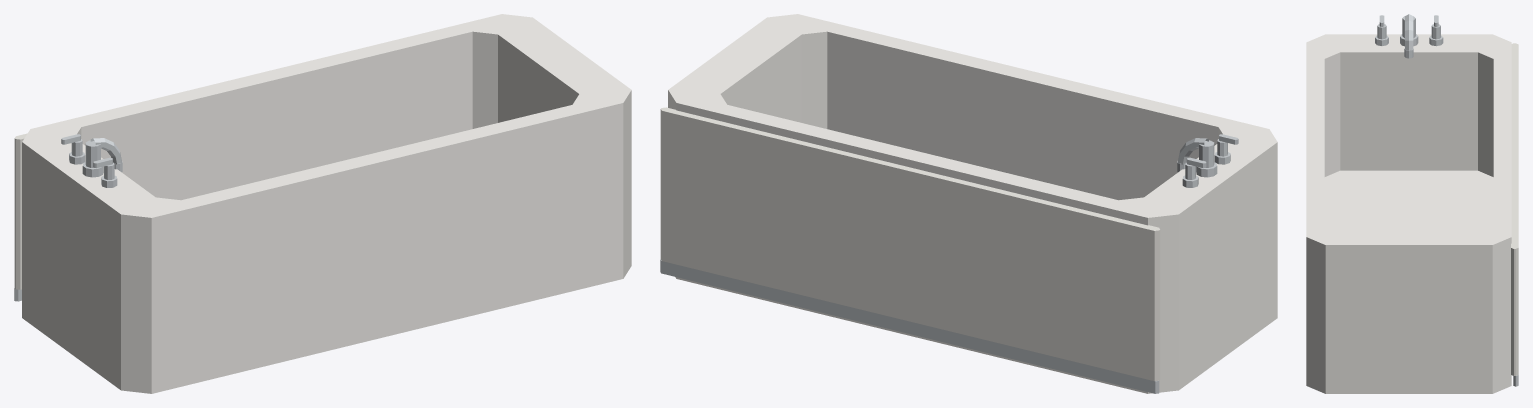
Rendered from SM_LPI_Bath_Tub_01.fbx.
3 renders of one model, left to right at view 1: azimuth 30°, elevation 25°; view 2: azimuth 150°, elevation 25°; view 3: azimuth 270°, elevation 25°, orthographic. The views are drawn at different scales.
Visible parts, largest first — view 1: SM_LPI_Bath_Tub_01; view 2: SM_LPI_Bath_Tub_01; view 3: SM_LPI_Bath_Tub_01.
Part boxes in pixels (x1=…): SM_LPI_Bath_Tub_01: x1=14, y1=14, x2=631, y2=393; SM_LPI_Bath_Tub_01: x1=660, y1=14, x2=1277, y2=393; SM_LPI_Bath_Tub_01: x1=1306, y1=14, x2=1518, y2=393.
Size of the model in its own units: 1.7 by 0.67 by 0.723.
